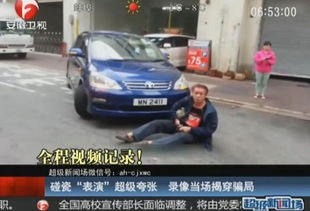falling: (112, 80, 224, 146)
